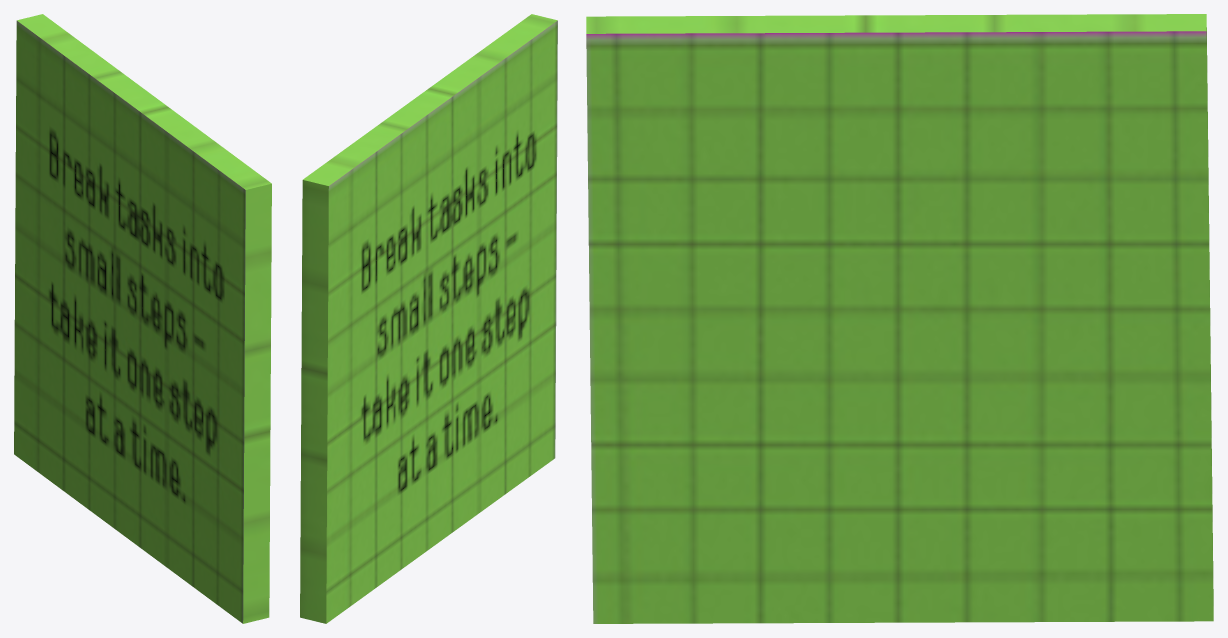
File: note7.fbx
The picture shows the model from 3 angles, left to right: view 1: azimuth 30°, elevation 25°; view 2: azimuth 150°, elevation 25°; view 3: azimuth 270°, elevation 25°; orthographic projection. The views are drawn at different scales.
Parts seen in each view (by area): view 1: note7; view 2: note7; view 3: note7.
Part boxes in pixels (bbox=[...]): note7: bbox=[14, 14, 271, 623]; note7: bbox=[300, 14, 557, 623]; note7: bbox=[586, 14, 1213, 623].
Bounding box in the file's own units: 1.53 × 24.35 × 23.36.
Materials: 1 (1 with a texture image).
